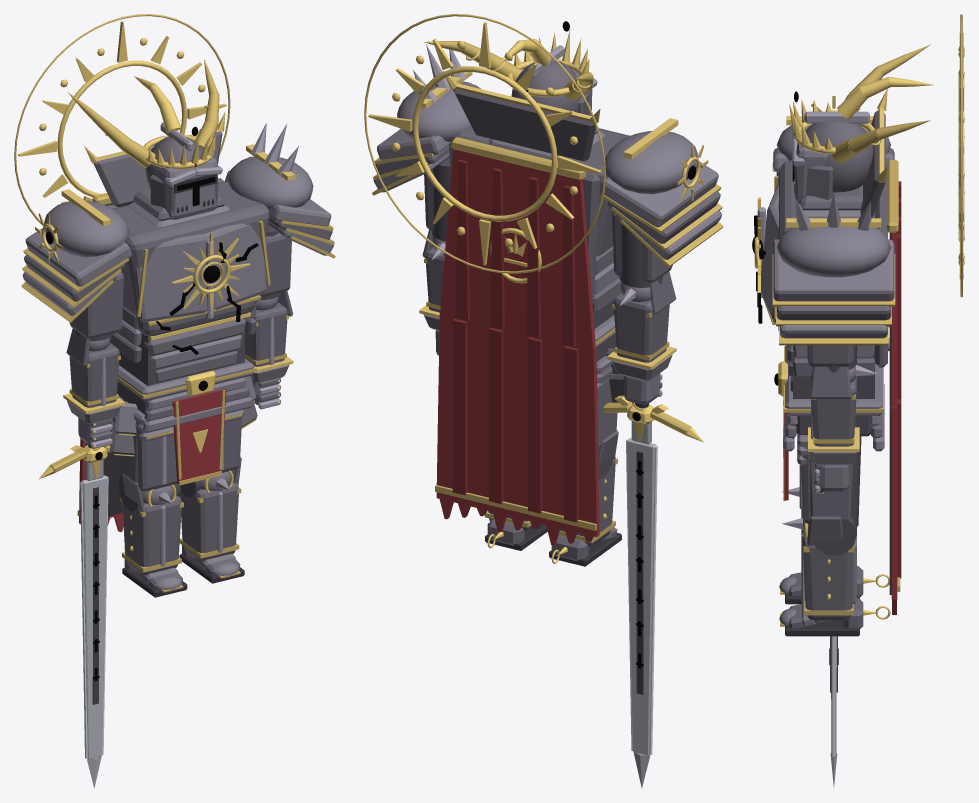
The model's file is sovereign.glb.
3 views of the same model, side by side, from view 1: azimuth 30°, elevation 25°; view 2: azimuth 150°, elevation 25°; view 3: azimuth 270°, elevation 25° (orthographic). The views are drawn at different scales.
Visible parts, largest first — view 1: sovereign*1.045, silver, sovereign*1.047, sovereign*1.072, sovereign*1.022, crimson, sovereign*1.006, sovereign*1.046, sovereign*1.063, sovereign*1.073, sovereign*1.050, sovereign*1.079 (+29 smaller); view 2: crimson.002, crimson.001, silver, sovereign*1.050, sovereign*1.072, gold.072, sovereign*1.079, crimson*0.008, sovereign*1.073, crimson*0.004, crimson*0.005, crimson*0.006 (+31 smaller); view 3: sovereign*1.063, sovereign*1.064, sovereign*1.006, sovereign*1.058, sovereign*1.070, sovereign*1.065, sovereign*1.066, crimson.002, sovereign*1.003, sovereign*1.069, sovereign*1.030, sovereign*1.046 (+37 smaller).
Boxes of the visible parts, x1,y1,x2,y2 form: sovereign*1.045: (112,181,269,336); silver: (81,475,107,759); sovereign*1.047: (135,233,209,322); sovereign*1.072: (43,200,128,257); sovereign*1.022: (122,495,181,575); crimson: (172,388,226,483); sovereign*1.006: (180,482,238,561); sovereign*1.046: (203,223,266,309); sovereign*1.063: (228,156,313,209); sovereign*1.073: (25,228,131,286); sovereign*1.050: (93,131,222,207); sovereign*1.079: (69,343,119,407); crimson.002: (436,312,599,536); crimson.001: (440,149,595,352); silver: (627,438,656,755); sovereign*1.050: (453,88,595,161); sovereign*1.072: (605,131,698,194); gold.072: (412,66,557,221); sovereign*1.079: (613,292,669,362); crimson*0.008: (452,319,467,495); sovereign*1.073: (600,162,718,227); crimson*0.004: (564,346,578,522); crimson*0.005: (528,337,542,513); crimson*0.006: (489,327,503,504); sovereign*1.063: (776,217,890,277); sovereign*1.064: (773,239,894,301); sovereign*1.006: (802,530,854,620); sovereign*1.058: (805,121,873,192); sovereign*1.070: (811,373,856,446); sovereign*1.065: (776,306,891,320); sovereign*1.066: (780,325,887,338); crimson.002: (891,407,897,599); sovereign*1.003: (810,458,852,520); sovereign*1.069: (809,366,851,398); sovereign*1.030: (785,345,882,416); sovereign*1.046: (761,204,778,322).
Bounding box in the file's own units: 2.2 × 5.45 × 1.3.
